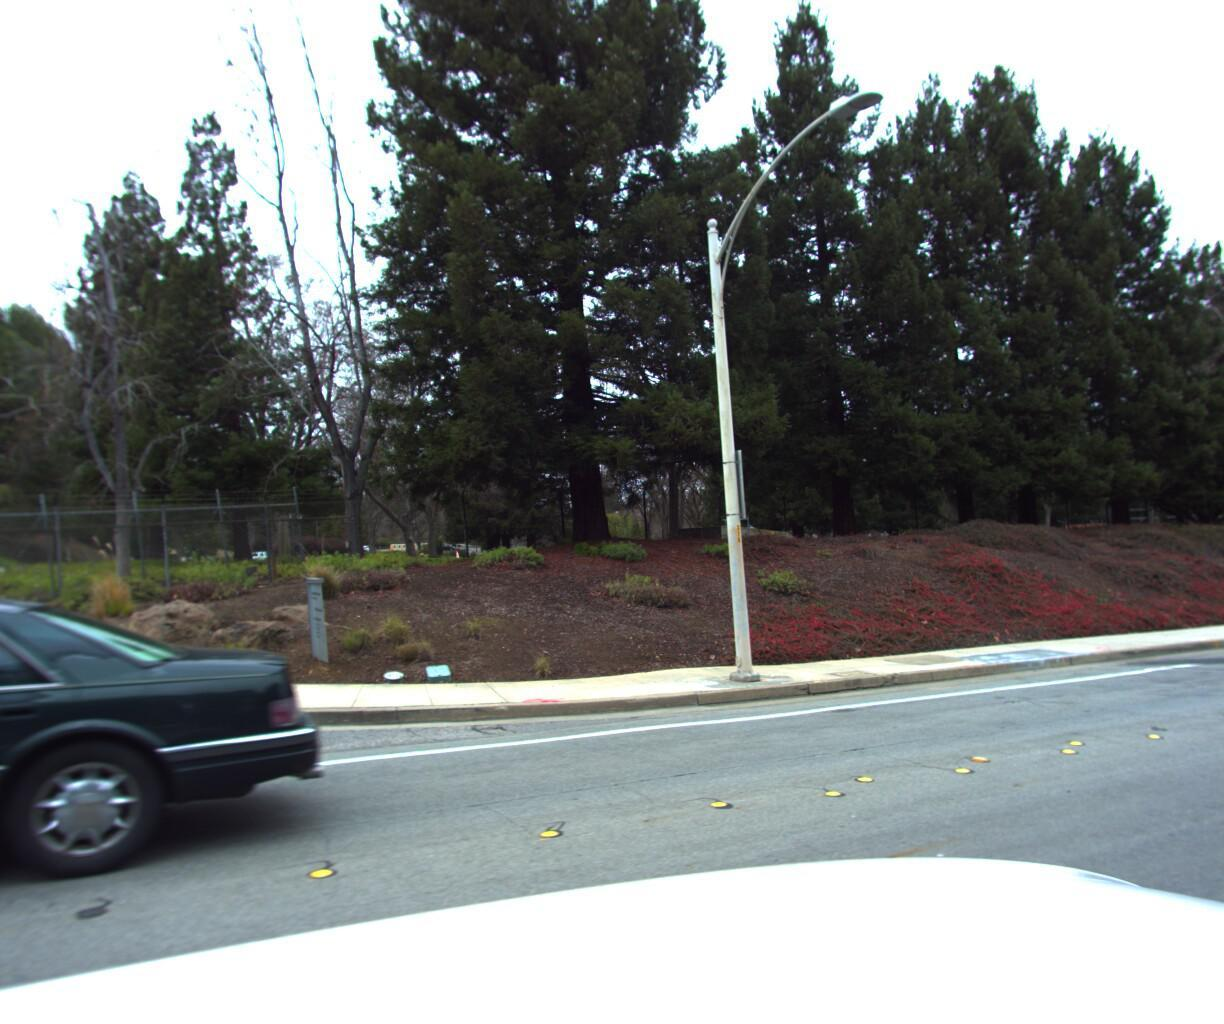car: (0, 553, 298, 1024)
